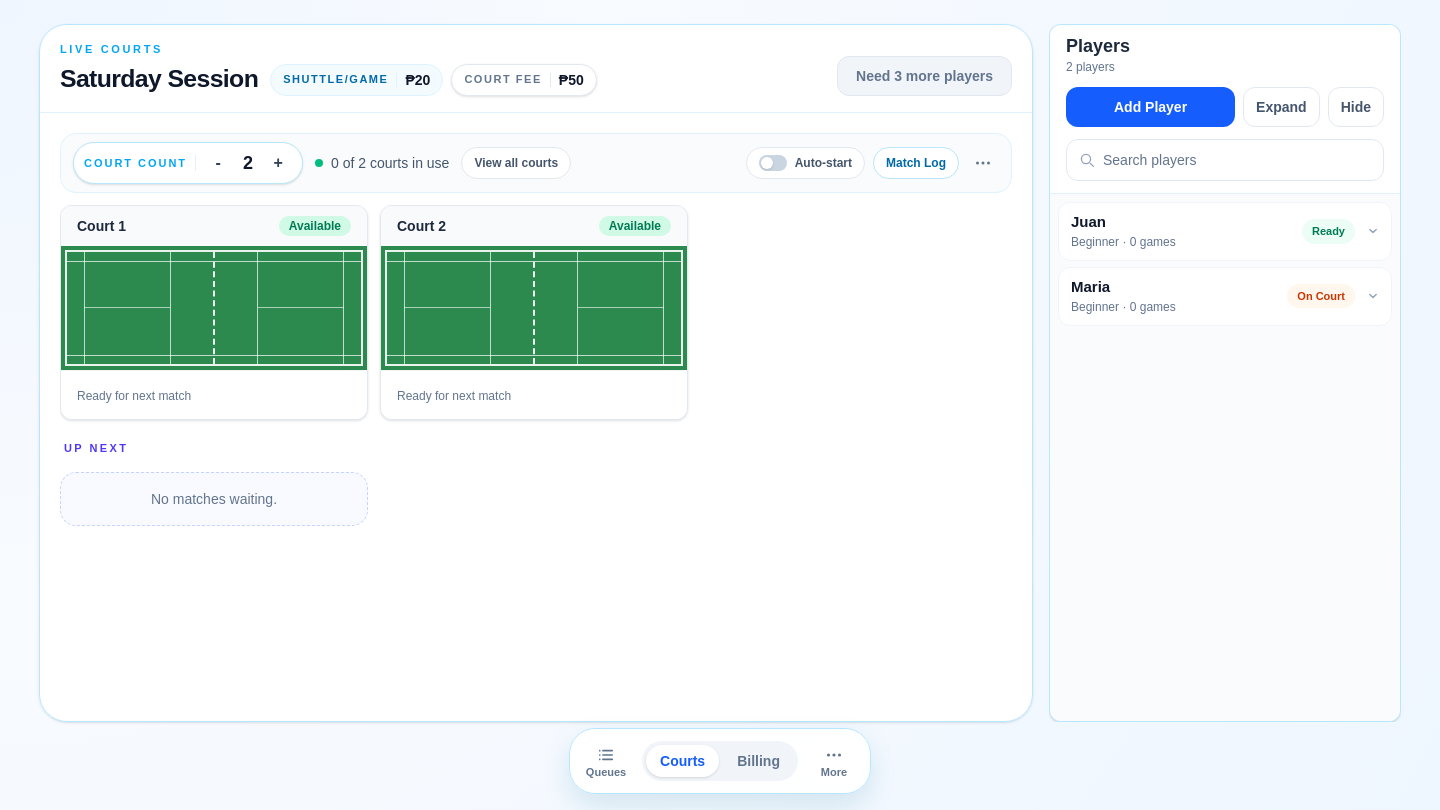
Test: queue page players › puts a player on break
Step 1. Click the button with aria-label "Show details for Juan" → (1089, 222), box [1059,203,1391,260]
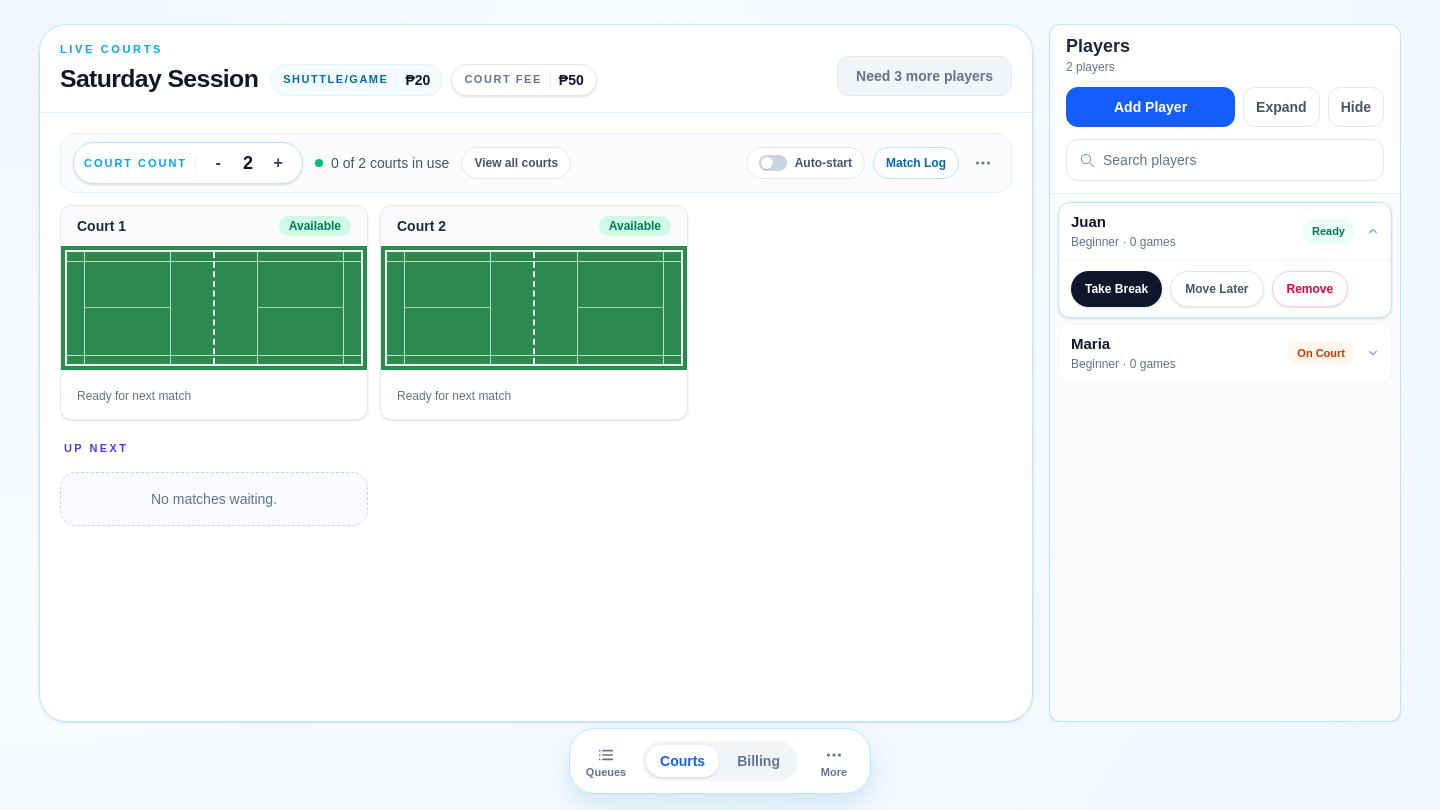
Step 2. Click the button "Take Break" → (1117, 289), box [1071,271,1162,307]
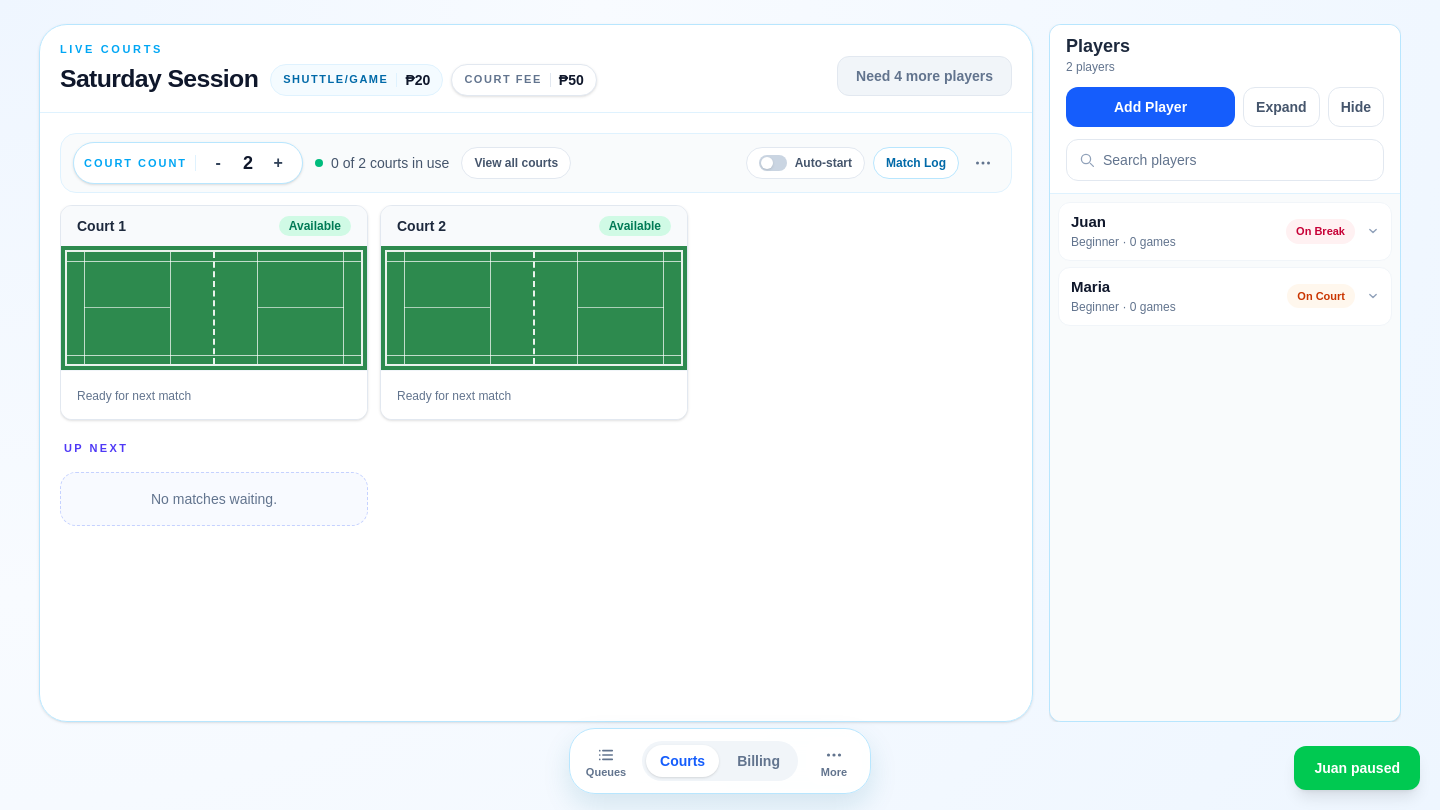
Expected: the text "Juan paused" is shown, [1314,758,1400,778]
Expected: the text "On Break" is shown, [1286,219,1355,244]
